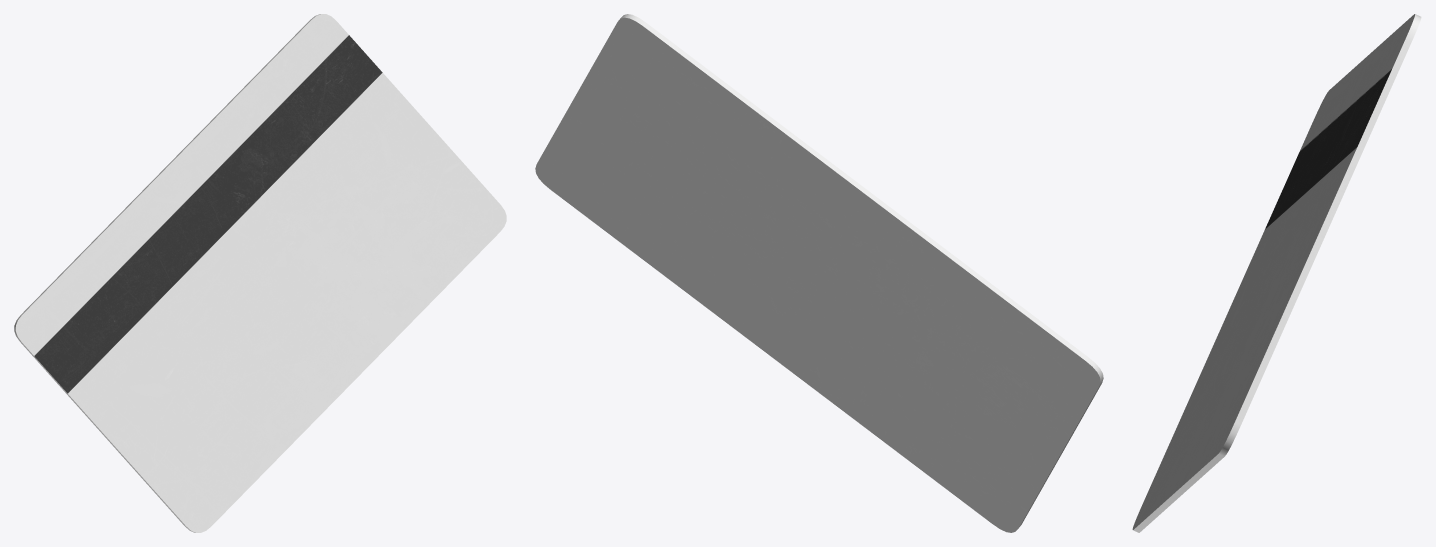
The model's file is cc0_-_magnet_card_1k.glb.
The picture shows the model from 3 angles, left to right: view 1: azimuth 30°, elevation 25°; view 2: azimuth 150°, elevation 25°; view 3: azimuth 270°, elevation 25°; orthographic projection. The views are drawn at different scales.
Visible parts, largest first — view 1: MagnetCard_MagnetCard_0; view 2: MagnetCard_MagnetCard_0; view 3: MagnetCard_MagnetCard_0.
Part boxes in pixels (box(x1,y1,x2,y2)): MagnetCard_MagnetCard_0: box(14, 14, 506, 532); MagnetCard_MagnetCard_0: box(535, 14, 1103, 532); MagnetCard_MagnetCard_0: box(1132, 14, 1421, 532).
Bounding box in the file's own units: 0.0982 × 0.0828 × 0.0319.
Materials: 1 (1 with a texture image).
